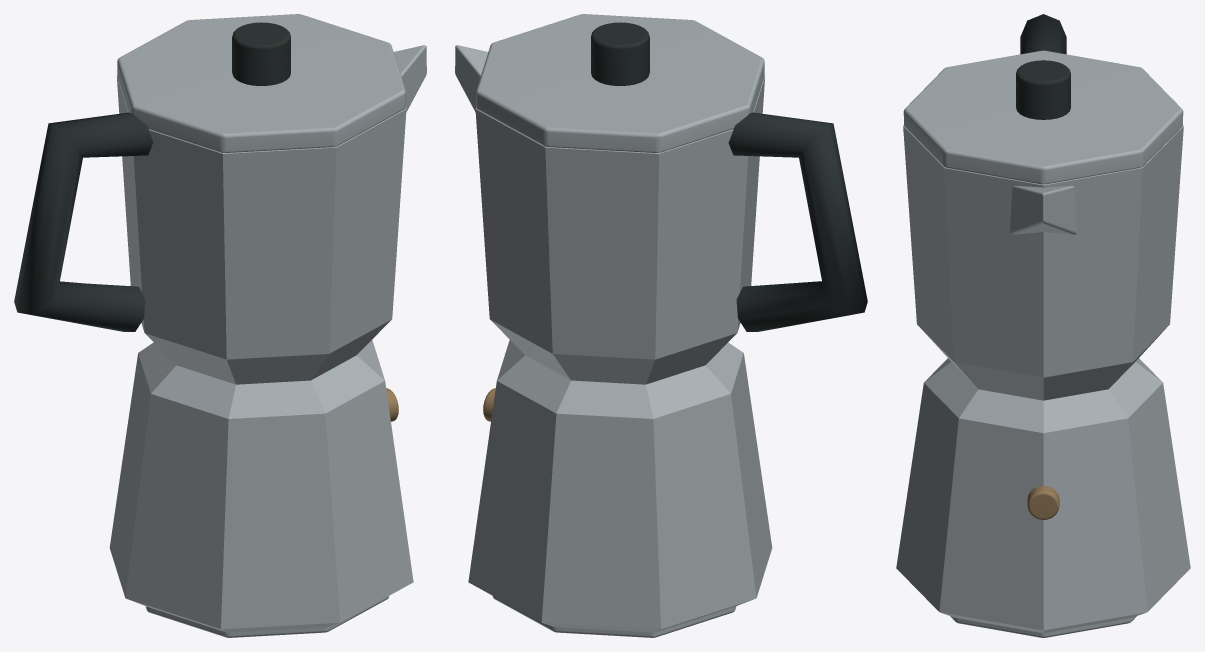
File: universal-moka-coffee-maker.glb
3 renders of one model, left to right at view 1: azimuth 30°, elevation 25°; view 2: azimuth 150°, elevation 25°; view 3: azimuth 270°, elevation 25°, orthographic. The views are drawn at different scales.
Visible parts, largest first — view 1: One-piece octagonal boiler, Faceted collector, Octagonal lid, Heat-isolated brewer handle, Moka lid knob, Closed boiler floor, Pouring beak; view 2: One-piece octagonal boiler, Faceted collector, Octagonal lid, Heat-isolated brewer handle, Moka lid knob, Closed boiler floor, Pouring beak; view 3: One-piece octagonal boiler, Faceted collector, Octagonal lid, Pouring beak, Moka lid knob, Heat-isolated brewer handle, Closed boiler floor, Boiler safety valve.
Part boxes in pixels (left/top/right/bottom): One-piece octagonal boiler: left=109, top=340, right=413, bottom=632; Faceted collector: left=116, top=76, right=406, bottom=384; Octagonal lid: left=117, top=14, right=405, bottom=152; Heat-isolated brewer handle: left=14, top=112, right=153, bottom=331; Moka lid knob: left=232, top=22, right=290, bottom=85; Closed boiler floor: left=145, top=596, right=389, bottom=637; Pouring beak: left=393, top=45, right=426, bottom=111; One-piece octagonal boiler: left=468, top=340, right=772, bottom=632; Faceted collector: left=475, top=76, right=765, bottom=384; Octagonal lid: left=476, top=14, right=764, bottom=152; Heat-isolated brewer handle: left=728, top=112, right=867, bottom=331; Moka lid knob: left=591, top=22, right=649, bottom=85; Closed boiler floor: left=492, top=596, right=736, bottom=637; Pouring beak: left=455, top=45, right=488, bottom=111; One-piece octagonal boiler: left=896, top=358, right=1190, bottom=633; Faceted collector: left=903, top=125, right=1183, bottom=400; Octagonal lid: left=903, top=50, right=1183, bottom=184; Pouring beak: left=1009, top=186, right=1077, bottom=234; Moka lid knob: left=1016, top=60, right=1070, bottom=119; Heat-isolated brewer handle: left=1020, top=14, right=1066, bottom=54; Closed boiler floor: left=950, top=616, right=1136, bottom=637; Boiler safety valve: left=1027, top=486, right=1059, bottom=519.
Size of the model in its own units: 0.1922 by 0.2475 by 0.128.
3 materials, 3 textured.
